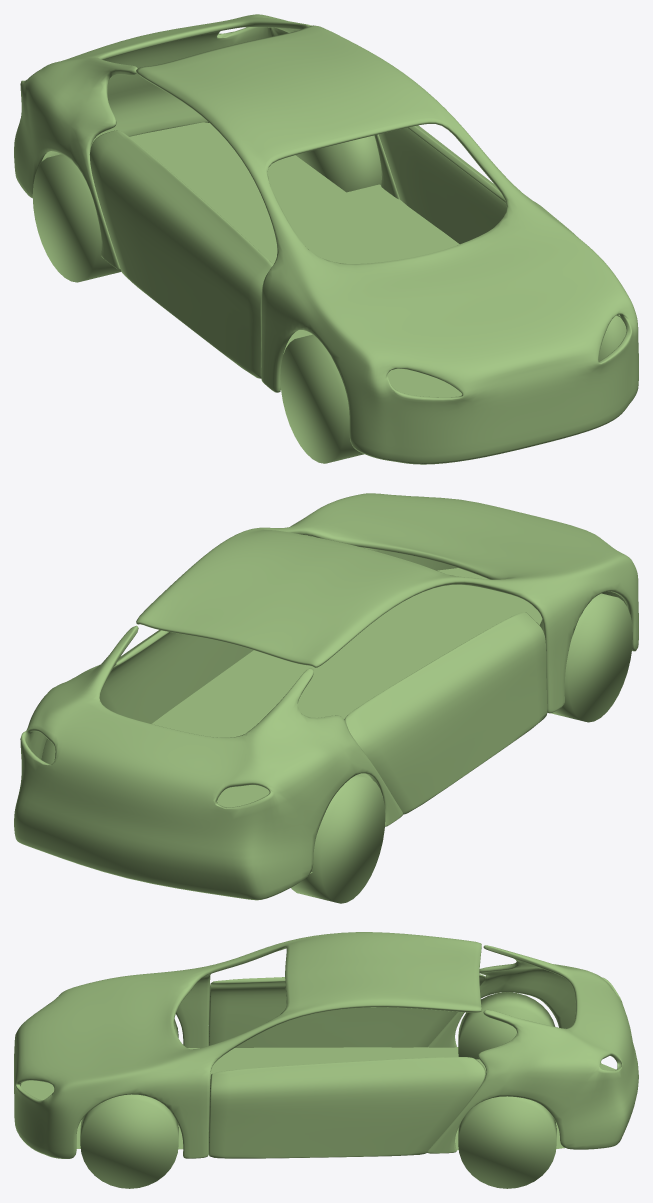
The model's file is car.v2.export.ego.gltf.
3 views of the same model, one above another, from view 1: azimuth 30°, elevation 25°; view 2: azimuth 150°, elevation 25°; view 3: azimuth 270°, elevation 25° (orthographic). The views are drawn at different scales.
Parts seen in each view (by area): view 1: 平面.003; view 2: 平面.003; view 3: 平面.003.
Part boxes in pixels (x1,y1,x2,y2): 平面.003: [14, 14, 638, 464]; 平面.003: [14, 493, 638, 903]; 平面.003: [14, 932, 638, 1188].
Size of the model in its own units: 2.54 by 1.87 by 6.21.
